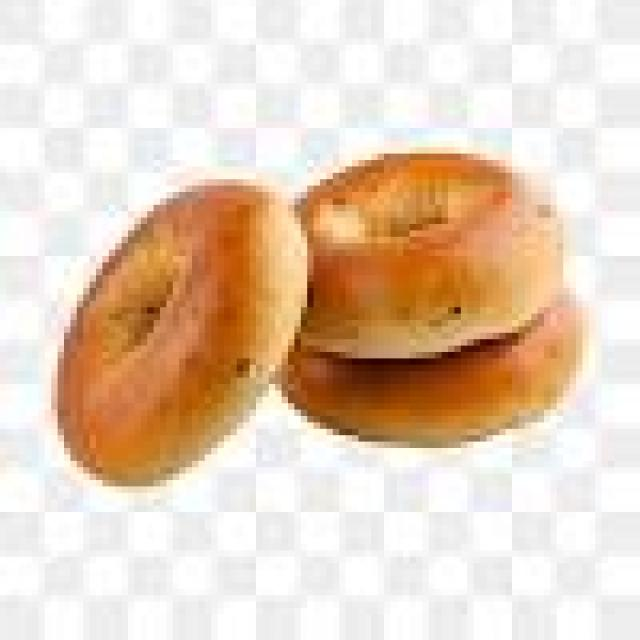Bagel: (58, 182, 305, 483), (300, 155, 556, 359), (285, 305, 580, 444)
